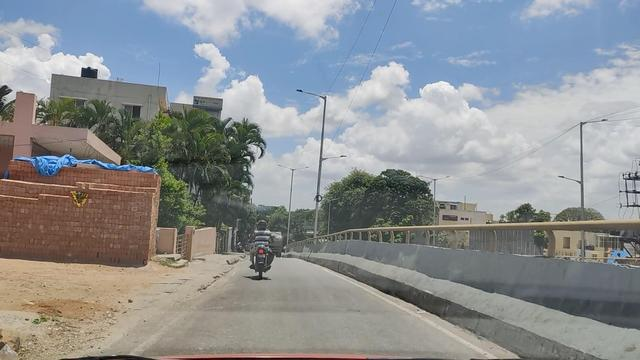LMV: (247, 211, 272, 274)
